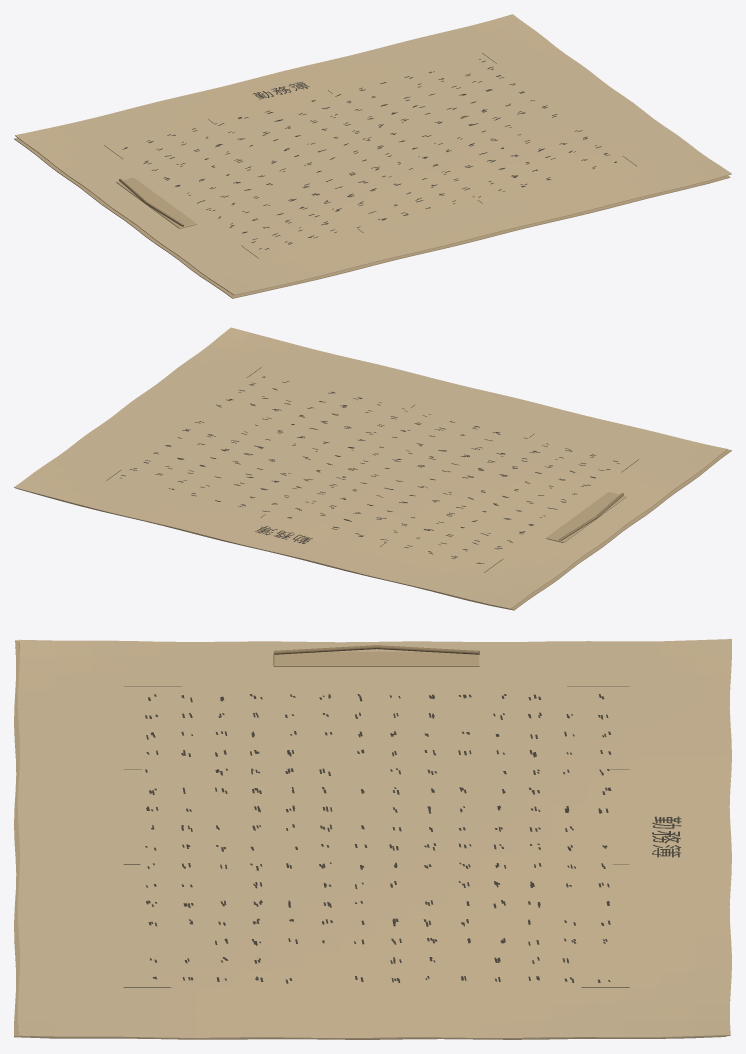
Rendered from DutyRecordRefined.glb.
3 views of the same model, one above another, from view 1: azimuth 30°, elevation 25°; view 2: azimuth 150°, elevation 25°; view 3: azimuth 270°, elevation 25° (orthographic). The views are drawn at different scales.
Parts seen in each view (by area): view 1: DutyRecordRefined; view 2: DutyRecordRefined; view 3: DutyRecordRefined.
Part boxes in pixels (x1,y1,x2,y2): DutyRecordRefined: (14, 14, 731, 298); DutyRecordRefined: (14, 327, 731, 610); DutyRecordRefined: (14, 639, 731, 1039).
Bounding box in the file's own units: 0.5036 × 0.0107 × 0.3832.
